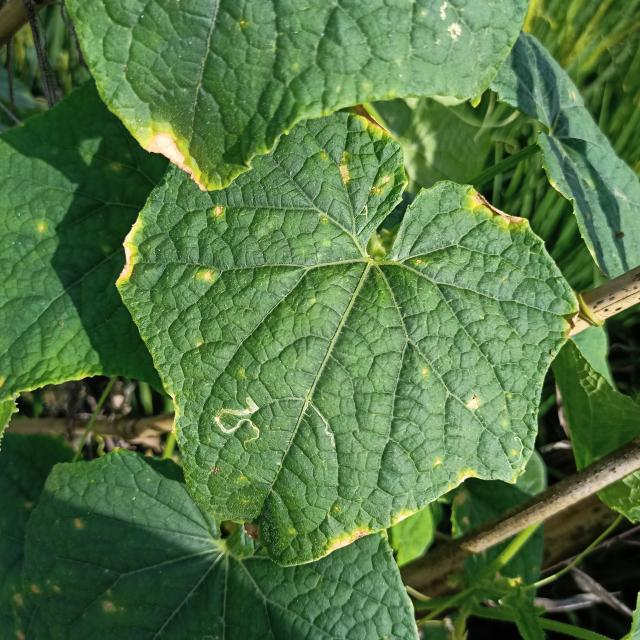disease_cucumber: (339, 100, 398, 197), (424, 454, 481, 487), (463, 393, 484, 413), (197, 267, 215, 289), (212, 206, 224, 222)
